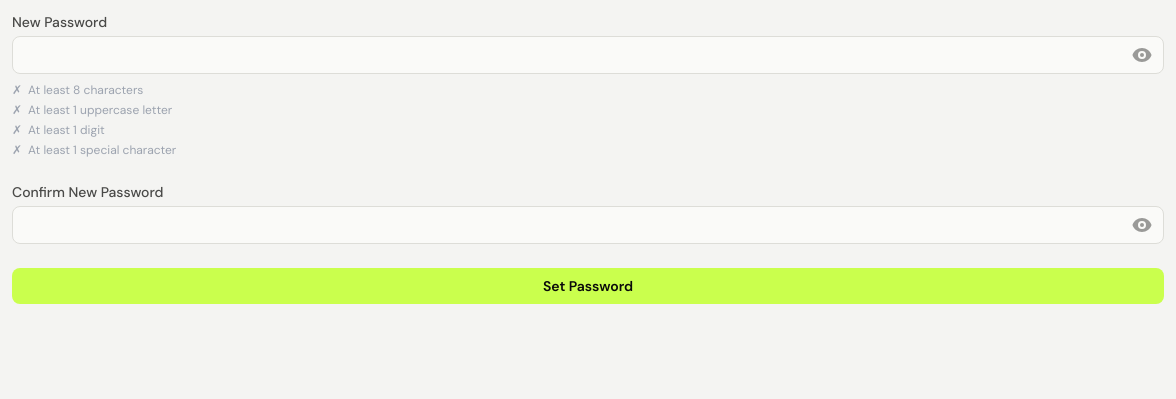
Test: SetupAccountForm › unexpected errors › shows generic error message on 400
The width and height of the screenshot is (1176, 399).
In the password field labelled "New Password": [588, 55] box [12,36,1164,74], type "SecurePass1!"
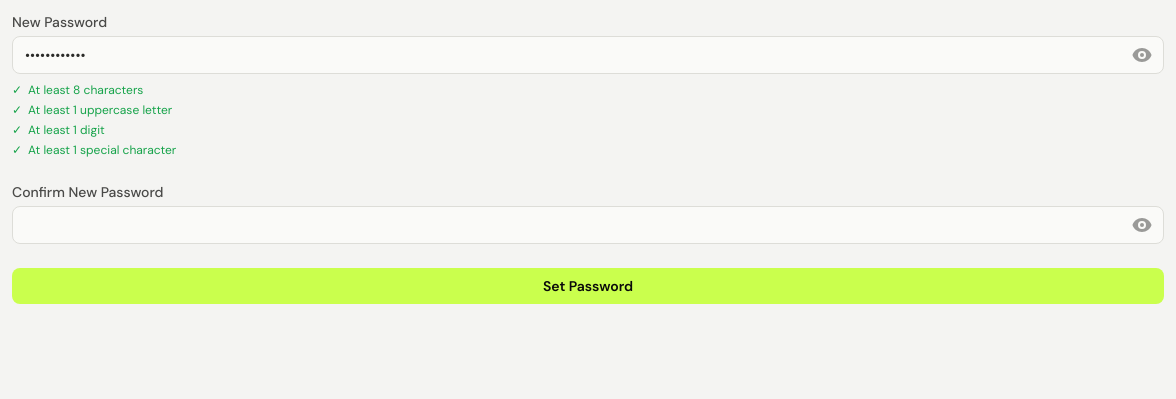
In the password field labelled "Confirm New Password": [588, 225] box [12,206,1164,244], type "SecurePass1!"
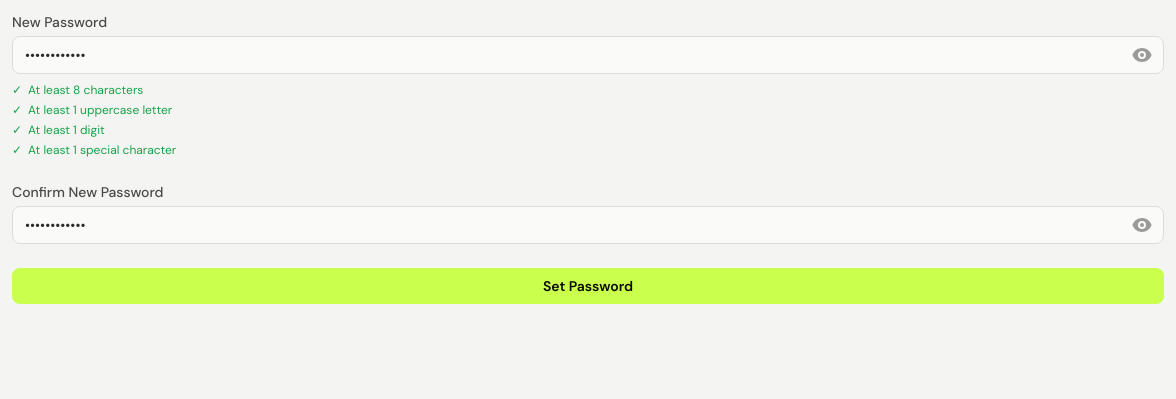
Click the button "Set Password": [588, 286] box [12,268,1164,304]
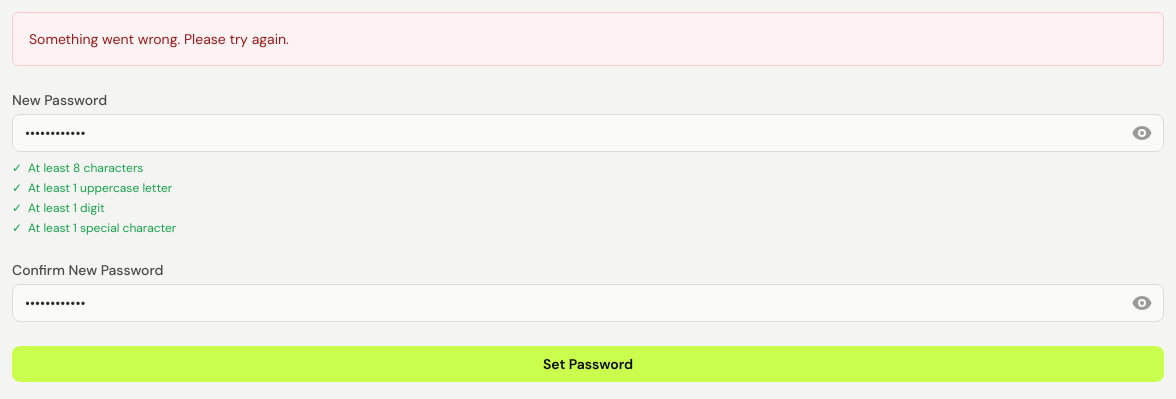
Expected: the text "Something went wrong. Please try again." is shown, [29,30,289,48]
